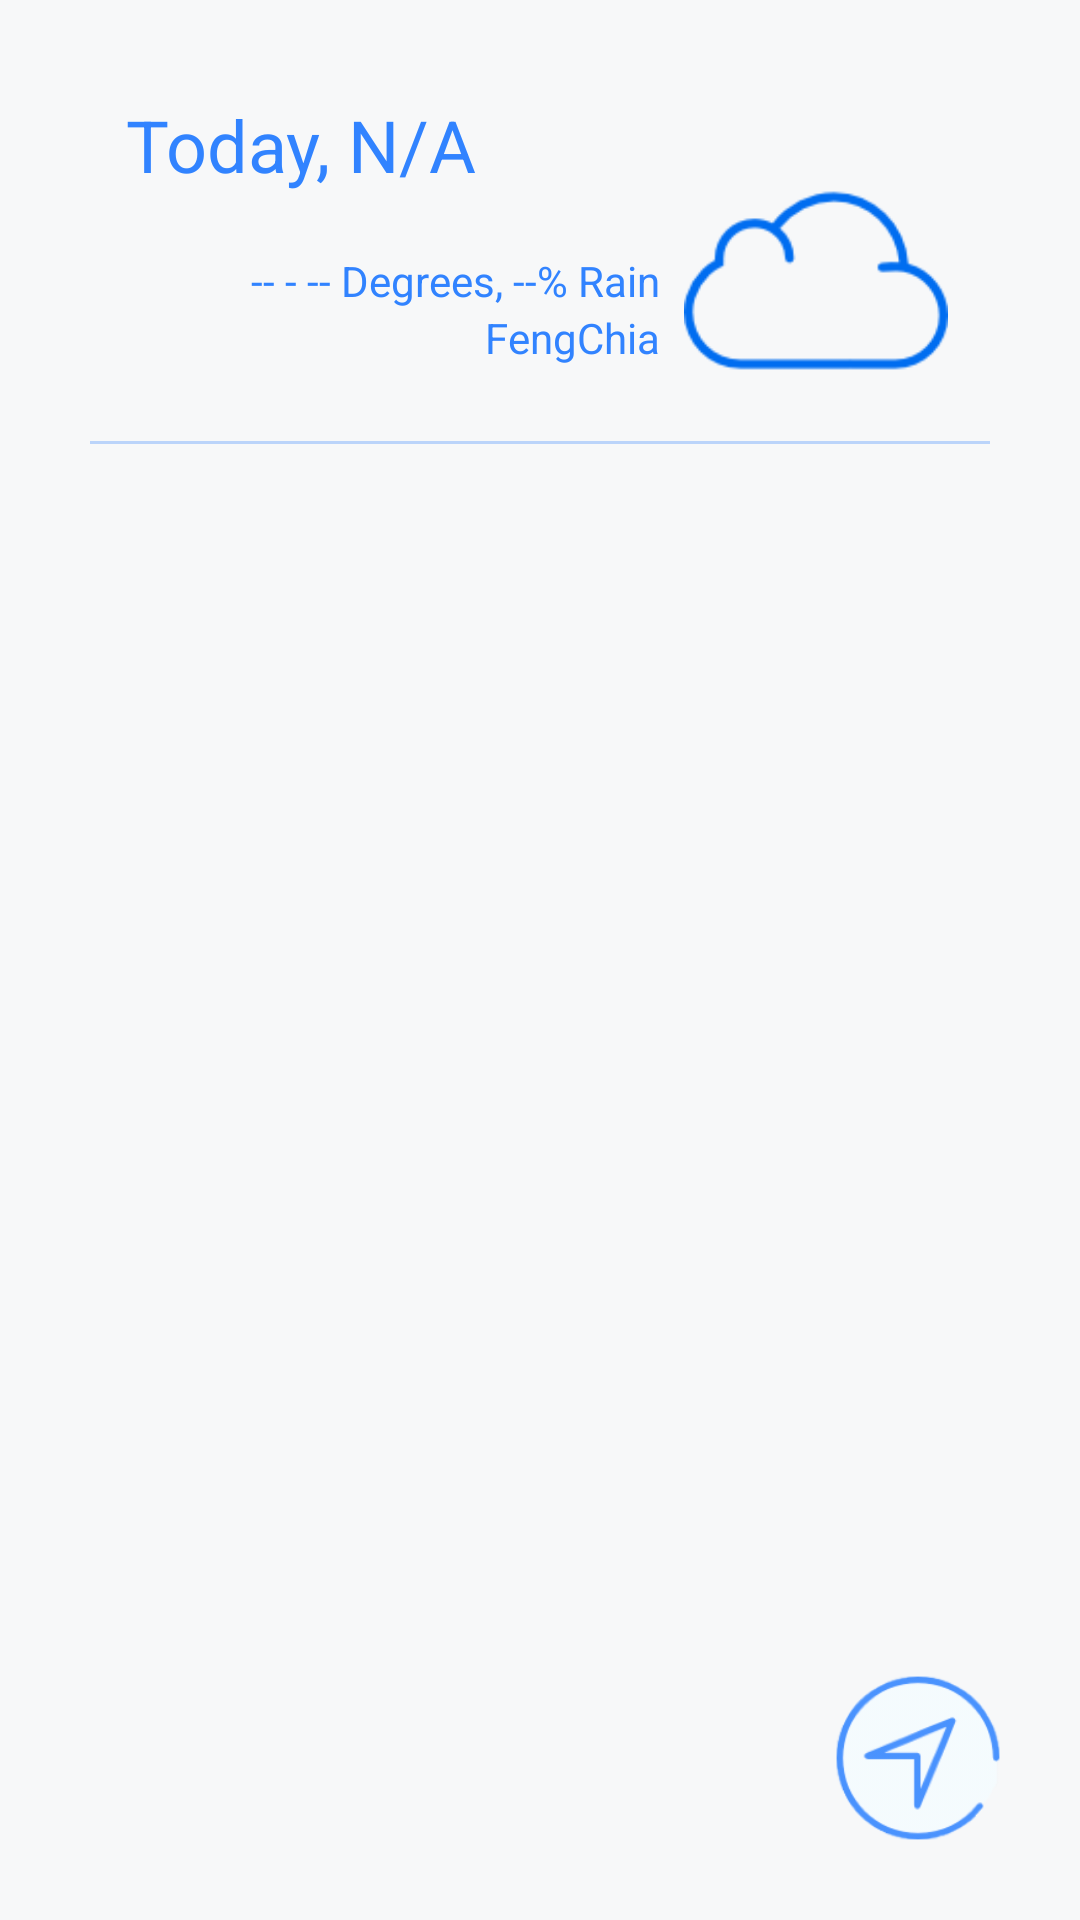

Screen size 1080w x 1920h. Icon name, then its box in pixels as [x1, y1, x2, y2]:
cloud: [684, 191, 948, 370]
compass: [836, 1676, 1000, 1840]
